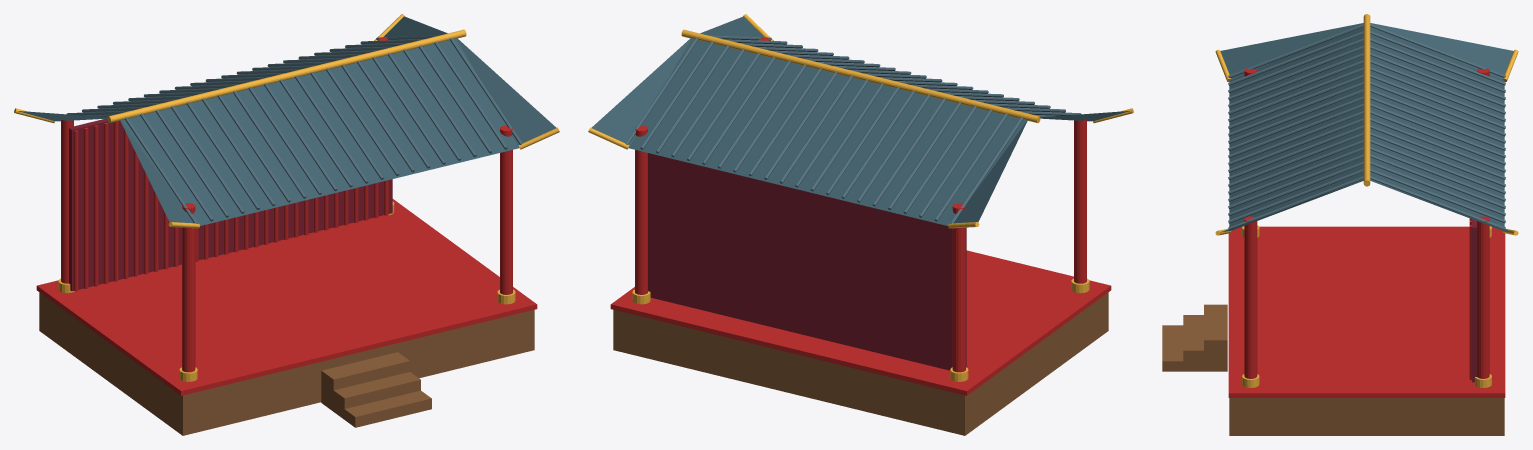
File: scendance-plan-cn-opera-stage.glb
3 renders of one model, left to right at view 1: azimuth 30°, elevation 25°; view 2: azimuth 150°, elevation 25°; view 3: azimuth 270°, elevation 25°, orthographic. The views are drawn at different scales.
Bounding box in the file's own units: 6.43 × 4.21 × 5.3.
